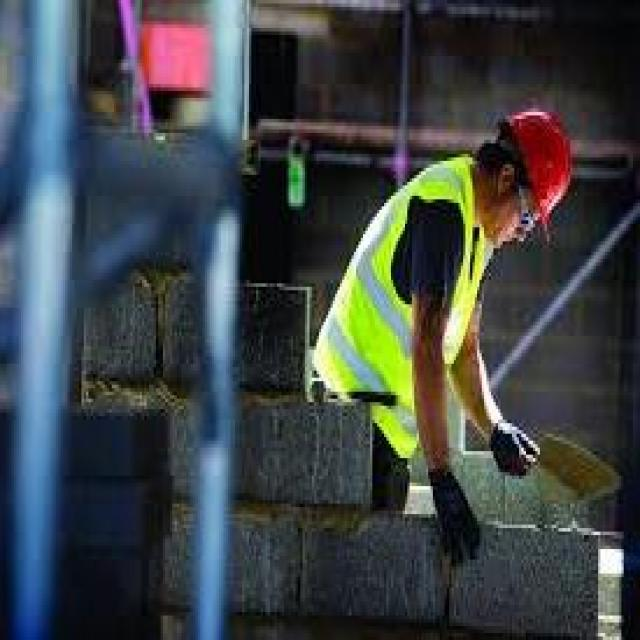Reflective-Jacket: (300, 144, 496, 472)
Safety-Helmet: (486, 91, 586, 245)
